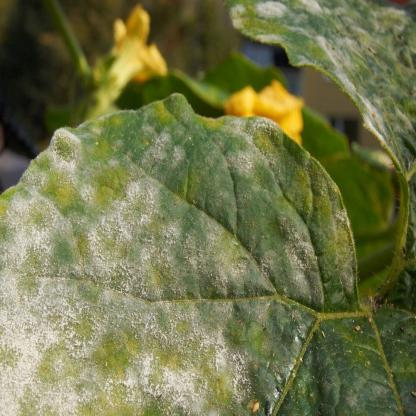squash powdery mildew leaf: (0, 96, 379, 415)
